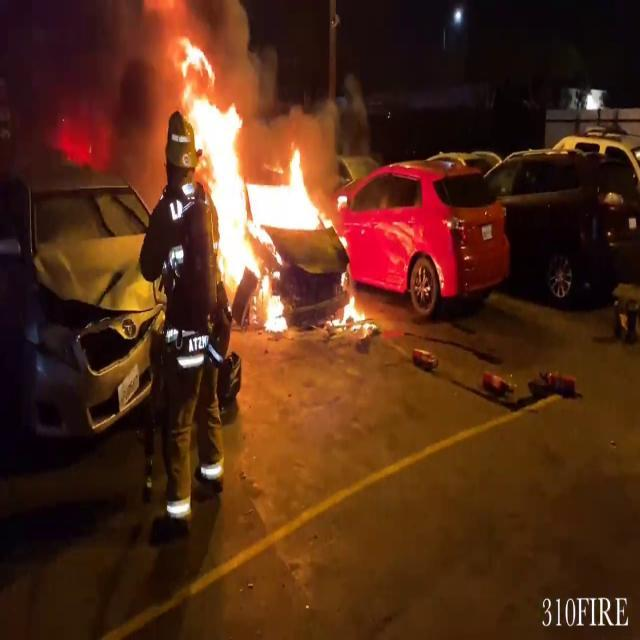Fire: (167, 25, 330, 328), (326, 286, 374, 334)
Smoke: (0, 0, 183, 189)
